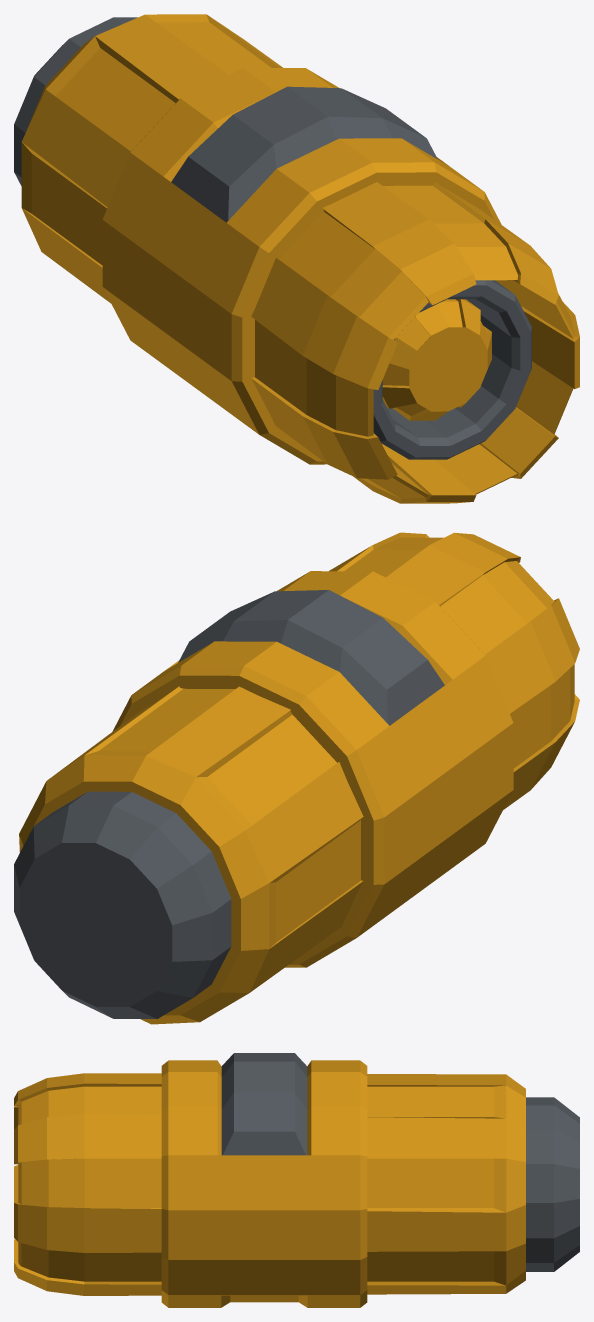
The model's file is Fighter_05_Thruster_2_Yellow.fbx.
The picture shows the model from 3 angles, top to bottom: view 1: azimuth 30°, elevation 25°; view 2: azimuth 150°, elevation 25°; view 3: azimuth 270°, elevation 25°; orthographic projection. The views are drawn at different scales.
Parts seen in each view (by area): view 1: Fighter_05_Thruster_2_Yellow; view 2: Fighter_05_Thruster_2_Yellow; view 3: Fighter_05_Thruster_2_Yellow.
Boxes of the visible parts, x1,y1,x2,y2 form: Fighter_05_Thruster_2_Yellow: [14, 14, 579, 503]; Fighter_05_Thruster_2_Yellow: [14, 532, 579, 1024]; Fighter_05_Thruster_2_Yellow: [14, 1053, 579, 1307].
Bounding box in the file's own units: 300 × 321 × 703.
1 material, 1 textured.
